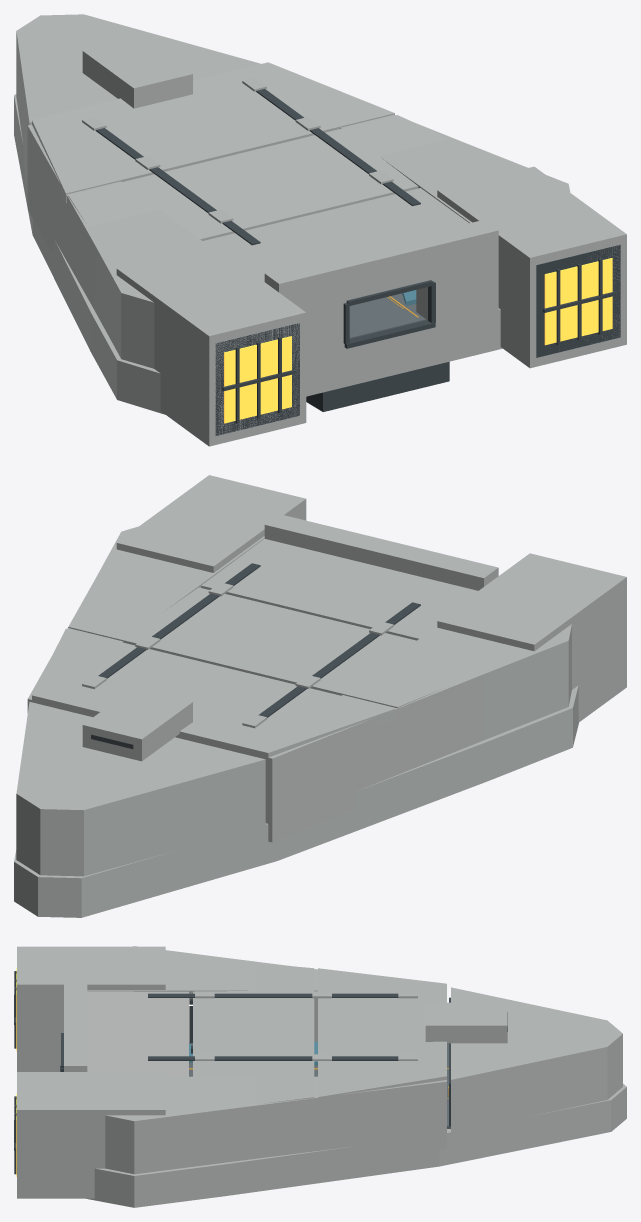
File: pocket-carrier.glb
3 renders of one model, top to bottom at view 1: azimuth 30°, elevation 25°; view 2: azimuth 150°, elevation 25°; view 3: azimuth 270°, elevation 25°, orthographic. The views are drawn at different scales.
Parts seen in each view (by area): view 1: Removable dorsal armor.002, Removable dorsal armor.001, Engine pod, Engine pod.001, Port armored service hull, Continuous lower pressure hull, Forward stores and command core, Removable dorsal armor, Aft pressure bulkhead beside portal.001, Aft pressure bulkhead beside portal, Command blister, Starboard armored service hull (+10 smaller); view 2: Forward stores and command core, Port armored service hull, Continuous lower pressure hull, Removable dorsal armor.002, Removable dorsal armor.001, Engine pod, Removable dorsal armor, Engine pod.001, Starboard armored service hull, Command blister, Aft structural header, Aft pressure bulkhead beside portal (+3 smaller); view 3: Starboard armored service hull, Forward stores and command core, Continuous lower pressure hull, Engine pod.001, Removable dorsal armor.002, Removable dorsal armor.001, Engine pod, Removable dorsal armor, Port armored service hull, Command blister, Recessed dorsal service strip.001, Recessed dorsal service strip (+3 smaller).
Part boxes in pixels (x1,y1,x2,y2): Removable dorsal armor.002: [32, 62, 394, 203]; Removable dorsal armor.001: [68, 115, 449, 240]; Engine pod: [116, 245, 306, 446]; Engine pod.001: [437, 166, 626, 368]; Port armored service hull: [27, 124, 208, 368]; Continuous lower pressure hull: [14, 94, 502, 414]; Forward stores and command core: [16, 14, 260, 192]; Removable dorsal armor: [203, 188, 468, 281]; Aft pressure bulkhead beside portal.001: [416, 220, 498, 343]; Aft pressure bulkhead beside portal: [264, 257, 346, 374]; Command blister: [82, 36, 192, 108]; Starboard armored service hull: [340, 114, 570, 223]; Forward stores and command core: [16, 702, 265, 876]; Port armored service hull: [259, 624, 571, 842]; Continuous lower pressure hull: [14, 685, 578, 917]; Removable dorsal armor.002: [32, 628, 394, 766]; Removable dorsal armor.001: [68, 587, 449, 708]; Engine pod: [437, 553, 626, 722]; Removable dorsal armor: [201, 538, 477, 640]; Engine pod.001: [116, 475, 306, 572]; Starboard armored service hull: [27, 526, 264, 712]; Command blister: [82, 687, 192, 761]; Aft structural header: [330, 530, 431, 575]; Aft pressure bulkhead beside portal: [416, 551, 498, 590]; Starboard armored service hull: [105, 1076, 446, 1174]; Forward stores and command core: [451, 987, 622, 1146]; Continuous lower pressure hull: [86, 1084, 626, 1207]; Engine pod.001: [17, 1072, 165, 1198]; Removable dorsal armor.002: [318, 968, 446, 1104]; Removable dorsal armor.001: [193, 963, 314, 1104]; Engine pod: [17, 946, 165, 1071]; Removable dorsal armor: [87, 991, 188, 1076]; Port armored service hull: [87, 946, 317, 1041]; Command blister: [425, 1002, 507, 1043]; Recessed dorsal service strip.001: [148, 1056, 398, 1060]; Recessed dorsal service strip: [148, 993, 398, 997].
Bounding box in the file's own units: 108 × 34.5 × 157.
